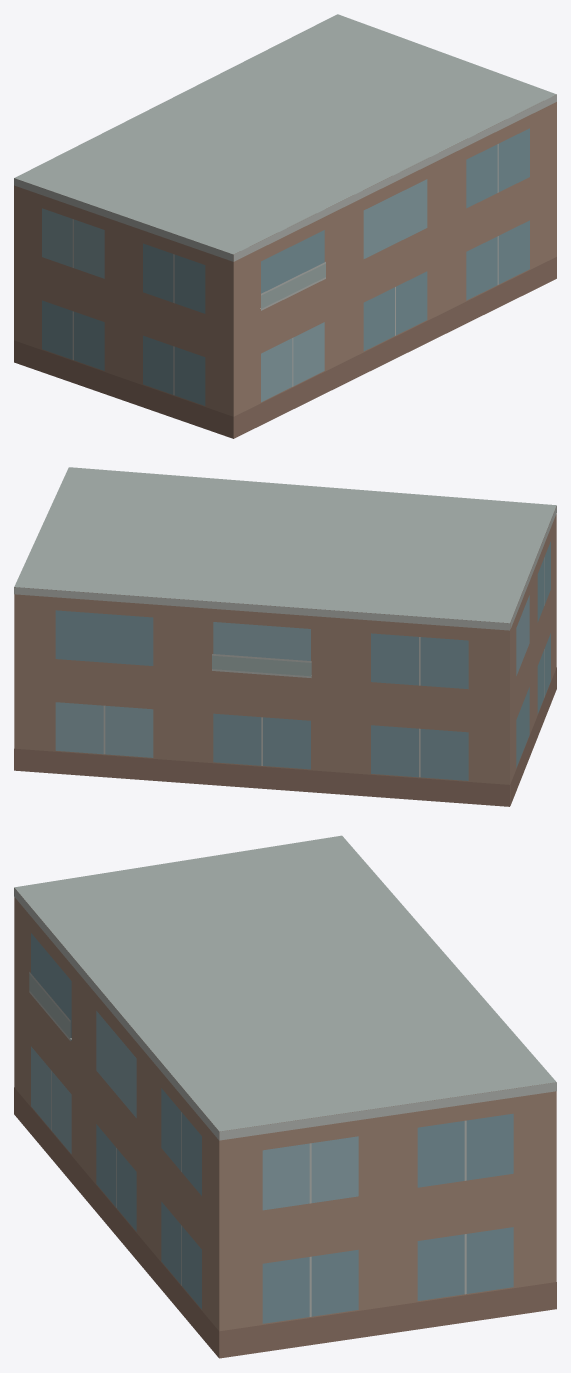
File: survey-upis-32842306.glb
3 views of the same model, one above another, from view 1: azimuth 30°, elevation 25°; view 2: azimuth 150°, elevation 25°; view 3: azimuth 270°, elevation 25° (orthographic). The views are drawn at different scales.
Parts seen in each view (by area): view 1: survey-upis-32842306.tmp; view 2: survey-upis-32842306.tmp; view 3: survey-upis-32842306.tmp.
Part boxes in pixels (<box>): survey-upis-32842306.tmp: <box>14,14,556,438</box>; survey-upis-32842306.tmp: <box>14,467,556,806</box>; survey-upis-32842306.tmp: <box>14,835,556,1358</box>.
Size of the model in its own units: 17.08 by 6.1 by 13.23.
